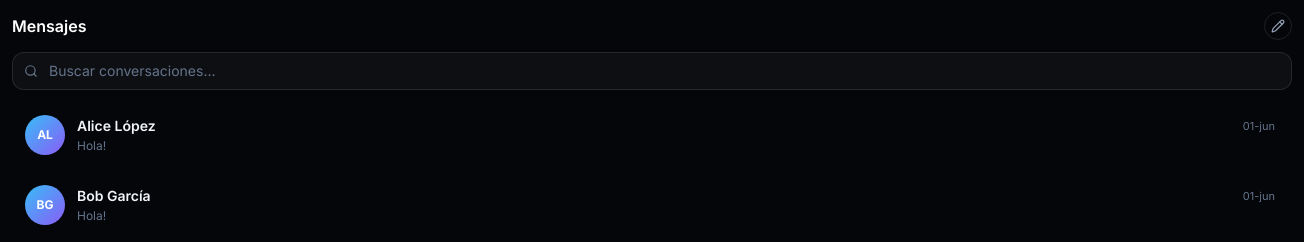
Test: ConversationList › filtra conversaciones por nombre del participante
The image size is (1304, 242).
Type "alice" into the search field with placeholder "Buscar conversaciones…" at (652, 71), box x1=12 y1=52 x2=1292 y2=90
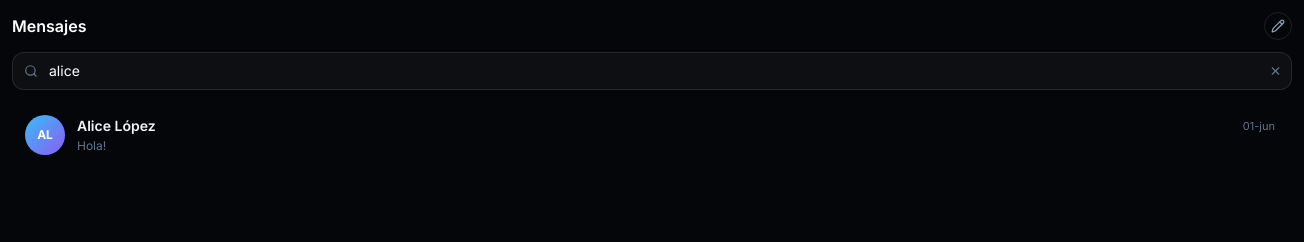
Expected: the text "Alice López" is shown, x1=77 y1=116 x2=156 y2=136
Result: the button "Bob García" is gone
